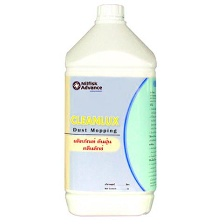cleaning_solution: (61, 2, 159, 218)
